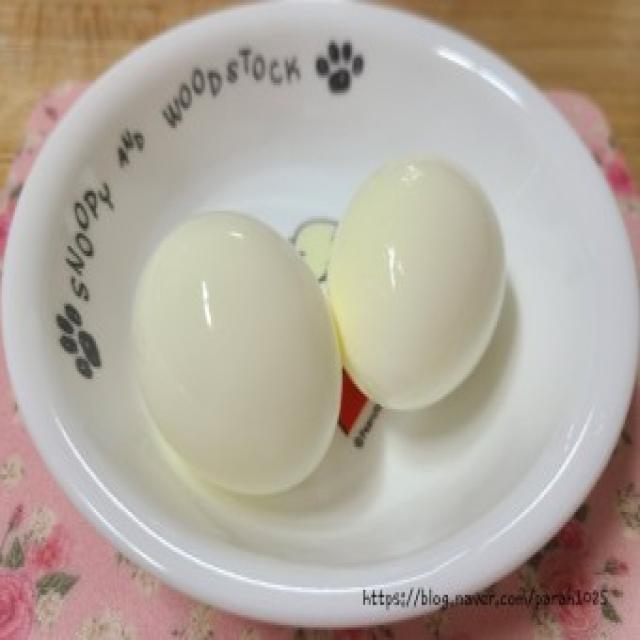eggs: (126, 203, 344, 503), (319, 155, 510, 412)
